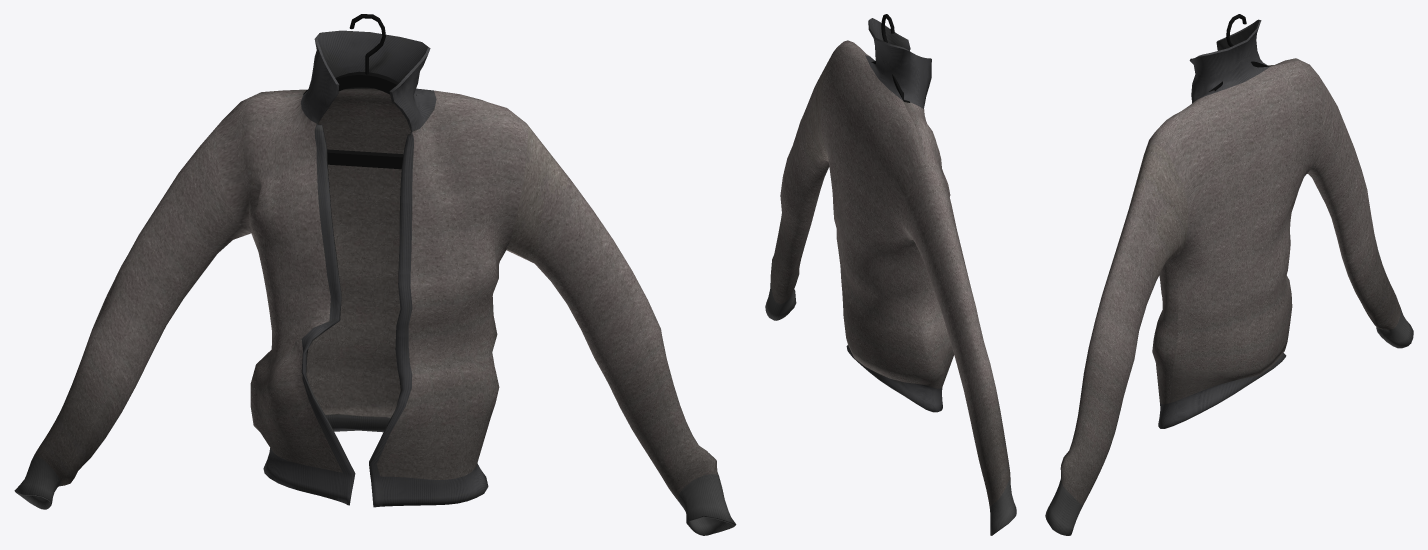
The model's file is Veste de papypour SE.FBX.
The picture shows the model from 3 angles, left to right: view 1: azimuth 30°, elevation 25°; view 2: azimuth 150°, elevation 25°; view 3: azimuth 270°, elevation 25°; orthographic projection. The views are drawn at different scales.
Visible parts, largest first — view 1: Veste de papy, Cintre; view 2: Veste de papy, Cintre; view 3: Veste de papy.
Part boxes in pixels (x1,y1,x2,y2): Veste de papy: [14, 30, 736, 535]; Cintre: [303, 14, 416, 169]; Veste de papy: [765, 18, 1016, 535]; Cintre: [871, 14, 909, 102]; Veste de papy: [1045, 19, 1413, 535].
Size of the model in its own units: 0.4725 by 0.4524 by 0.3553.
Materials: 2 (1 with a texture image).
